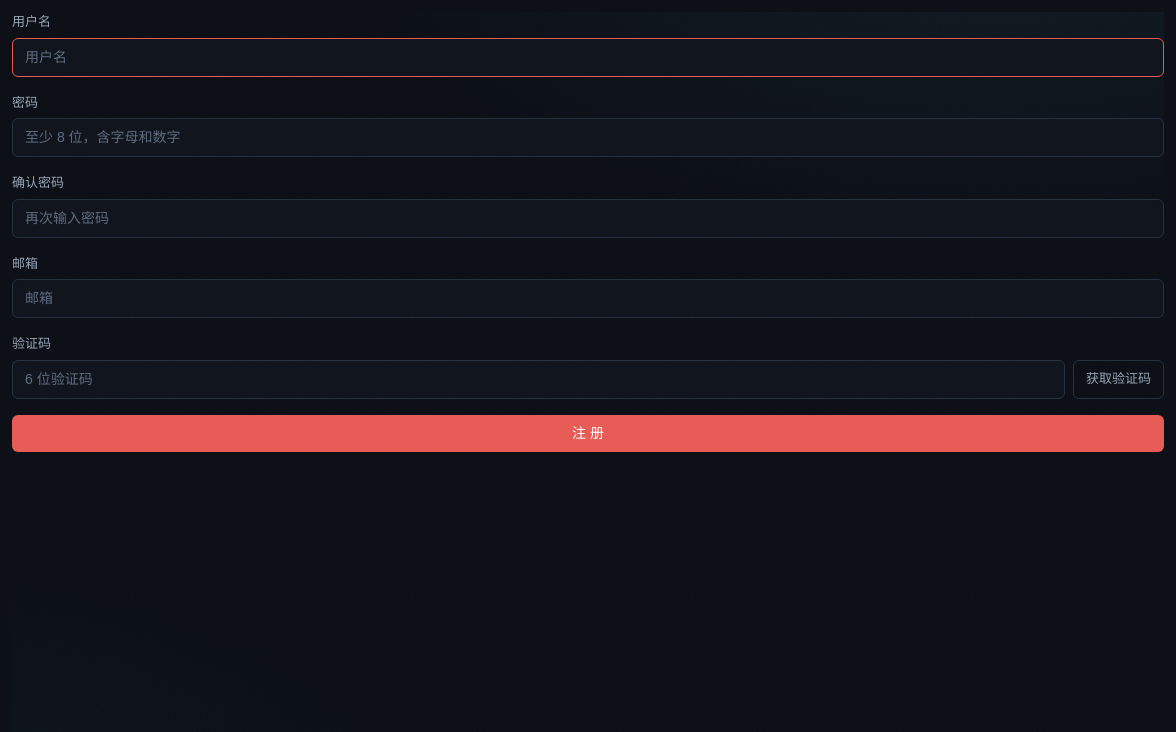
RegisterForm › 密码强度不足时报错
Type "newbie" into the field with placeholder "用户名" at coordinates (588, 57), box [12,38,1164,76]
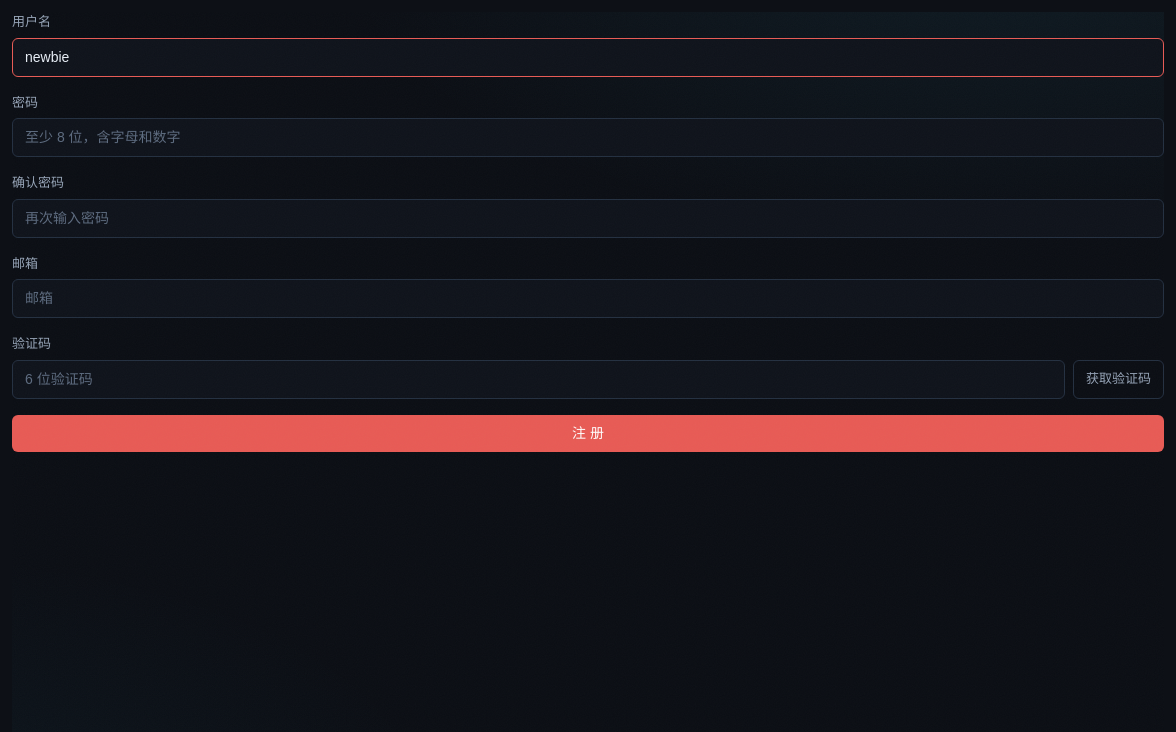
Type "short" into the password field with placeholder "至少 8 位，含字母和数字" at coordinates (588, 138), box [12,118,1164,157]
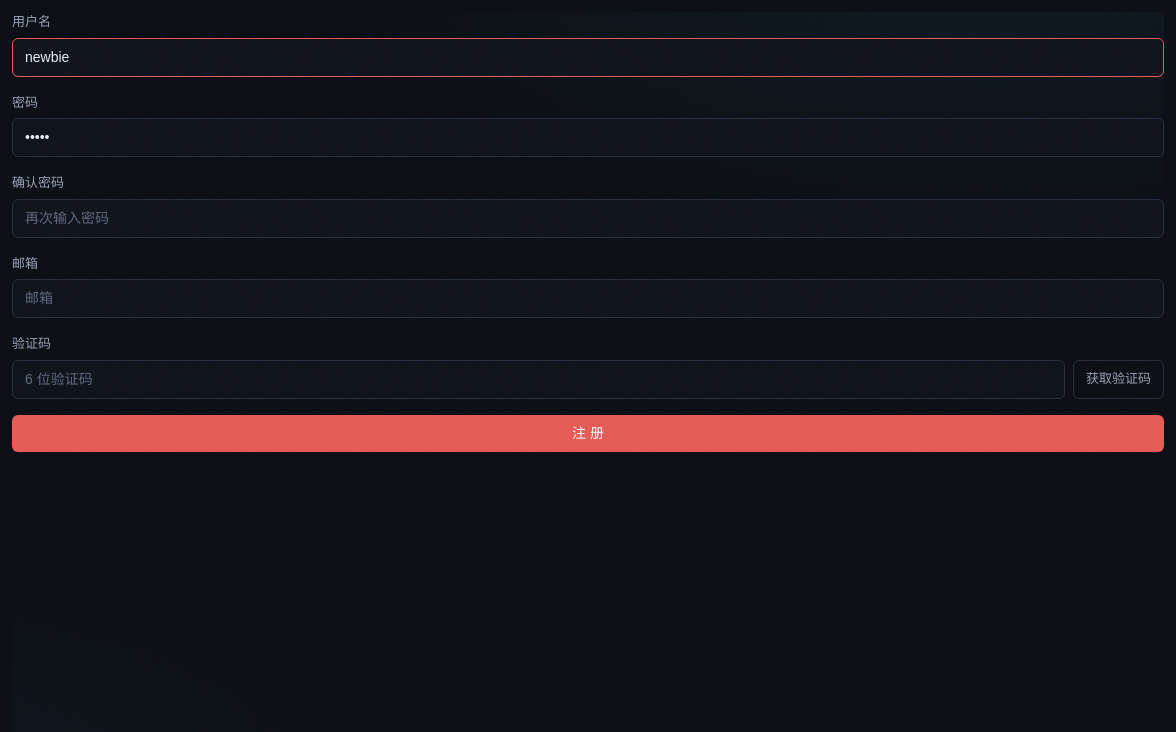
Type "short" into the password field with placeholder "再次输入密码" at coordinates (588, 218), box [12,198,1164,238]
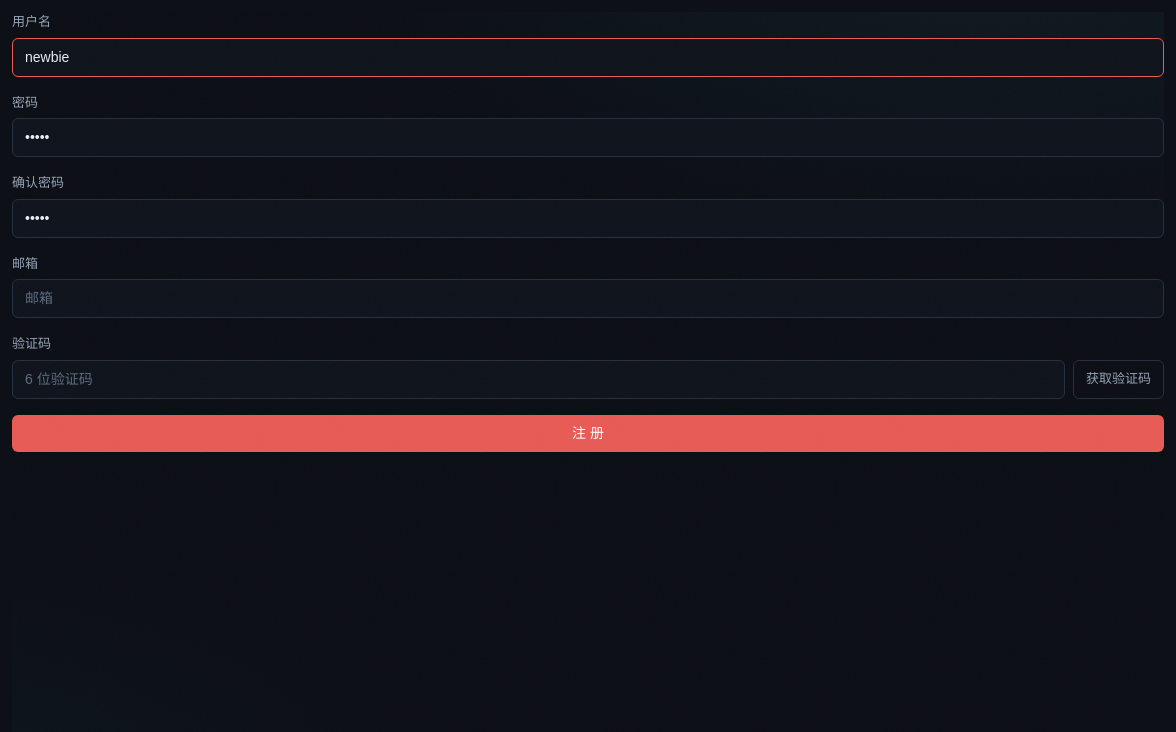
Click the button "注 册" at coordinates (588, 433), box [12,414,1164,452]
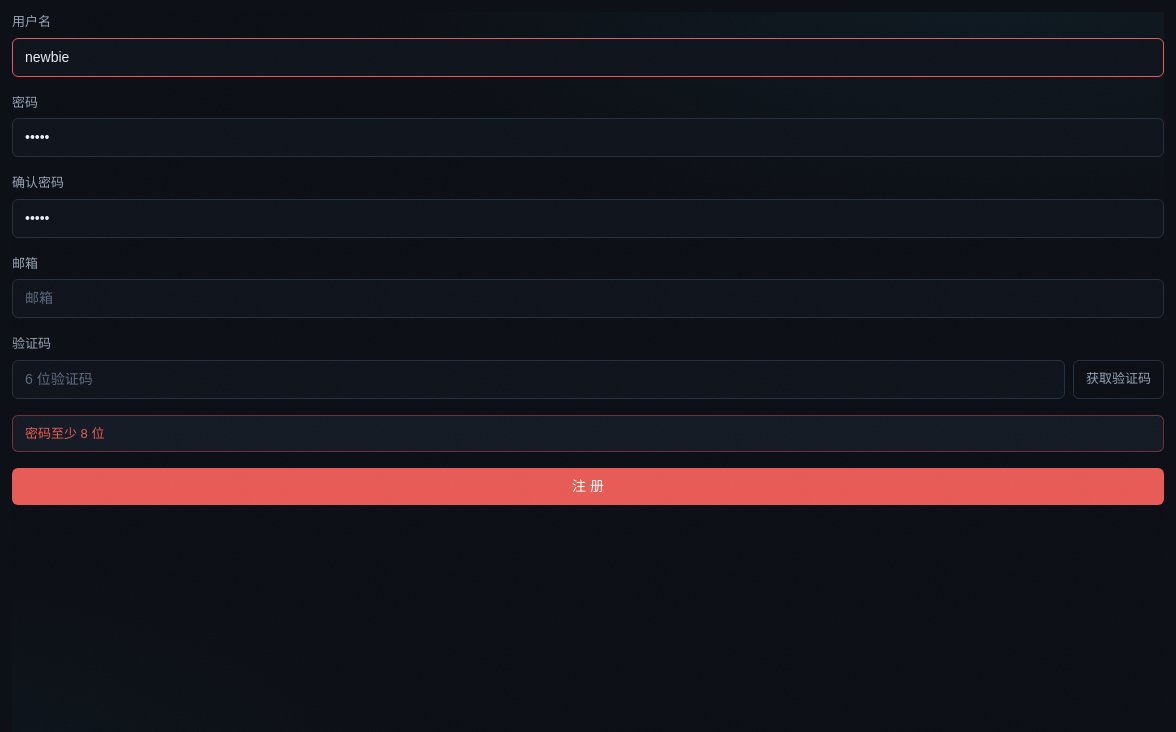
Check: the message shows "至少 8 位", box [25,426,104,440]
